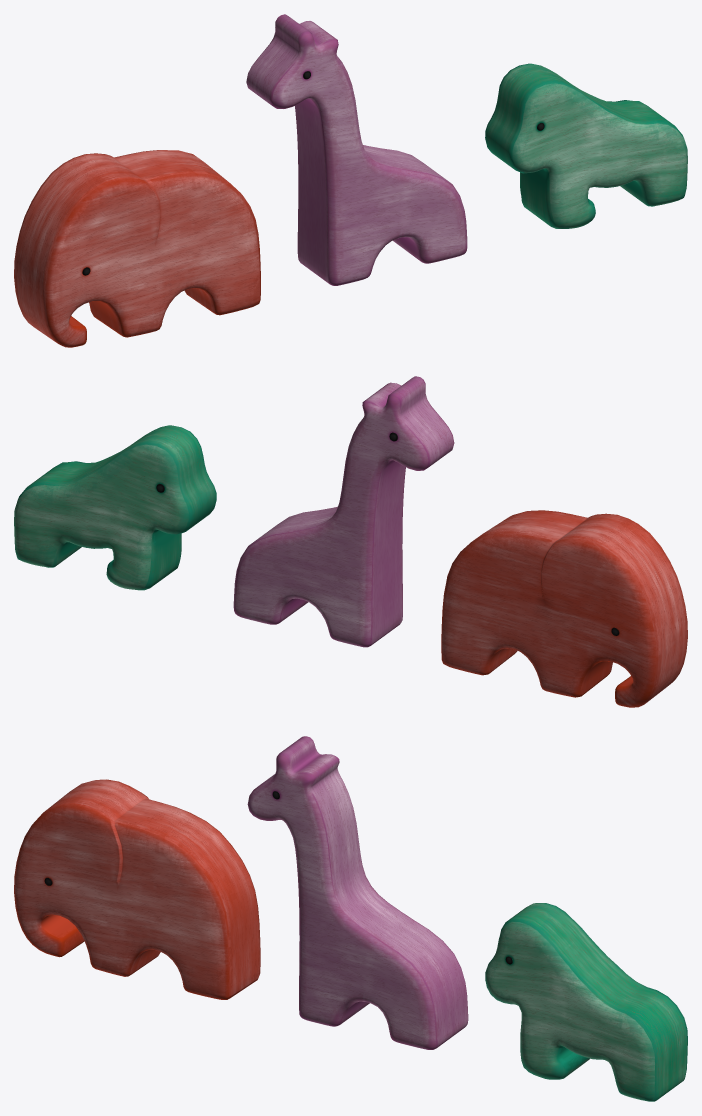
The model's file is prp_toyAnimals_model.FBX.
3 renders of one model, top to bottom at view 1: azimuth 30°, elevation 25°; view 2: azimuth 150°, elevation 25°; view 3: azimuth 330°, elevation 25°, orthographic.
Visible parts, largest first — view 1: prp_toyAnimals_model; view 2: prp_toyAnimals_model; view 3: prp_toyAnimals_model.
Boxes of the visible parts, x1,y1,x2,y2 form: prp_toyAnimals_model: [14, 14, 687, 347]; prp_toyAnimals_model: [14, 376, 687, 707]; prp_toyAnimals_model: [14, 736, 687, 1101].
Size of what is drawn, in the model's own units: 43.14 by 4.75 by 16.55.
